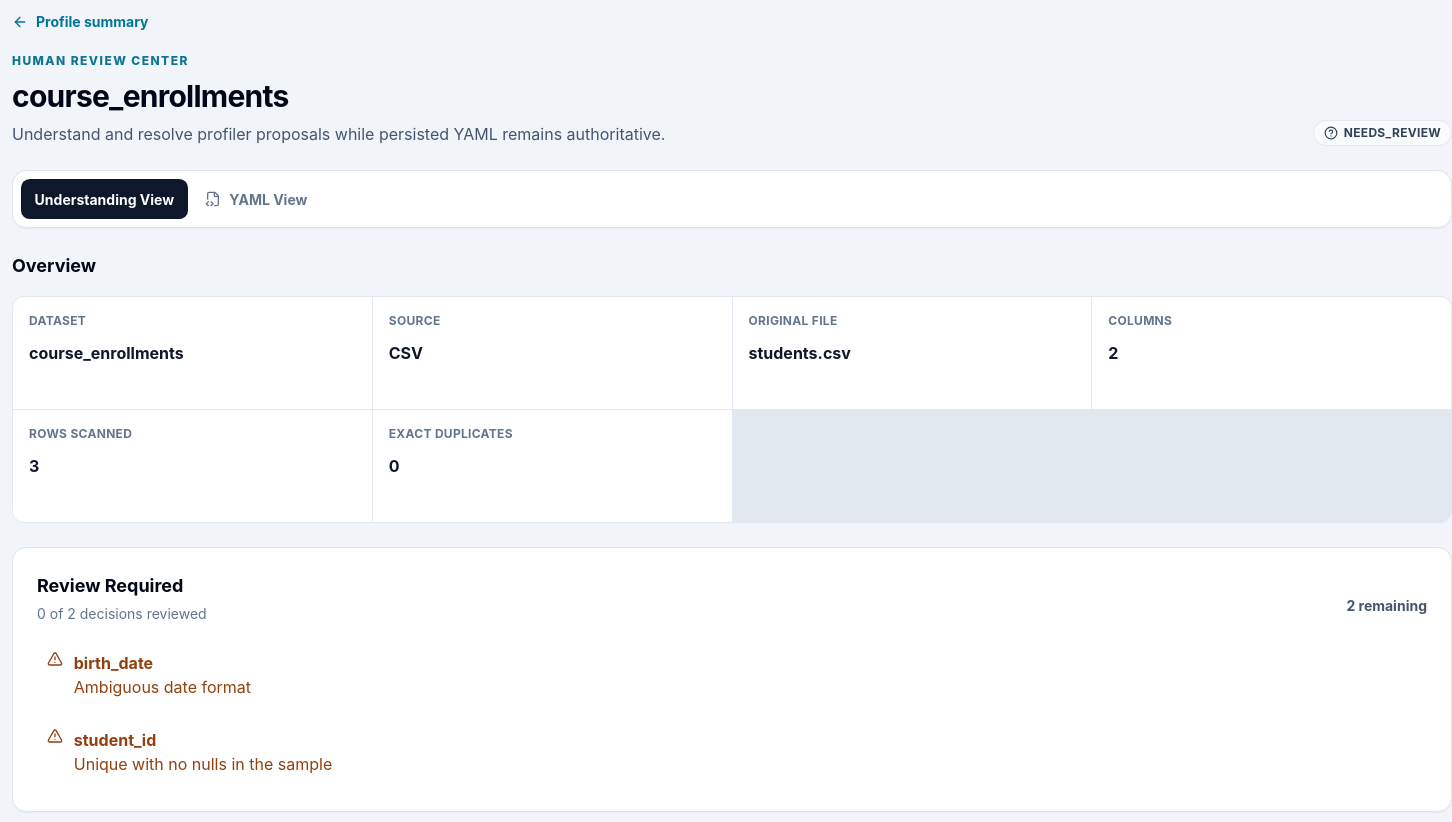
Test: loads the actual read-only YAML and supports direct refresh into review
The width and height of the screenshot is (1452, 822).
Expected: the heading "course_enrollments" is shown, [12, 78, 289, 114]
Click the tab "YAML View" at (256, 199), box [192, 179, 321, 219]
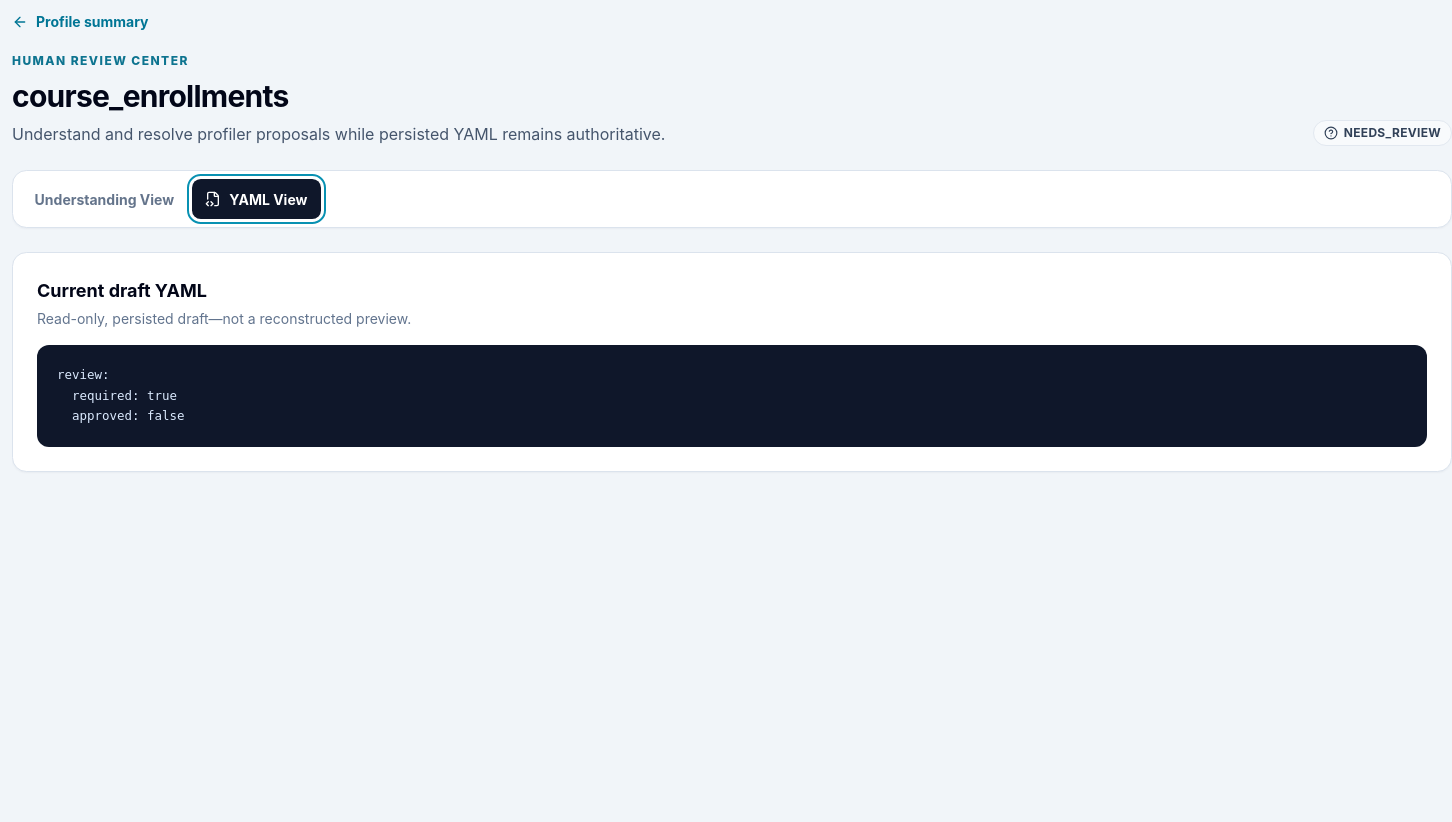
Now the text "review: required: true approved: false" is shown, box [37, 345, 1427, 447]
